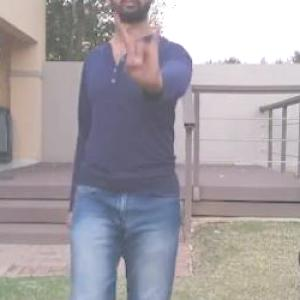takeoff-hand: (110, 6, 169, 88)
